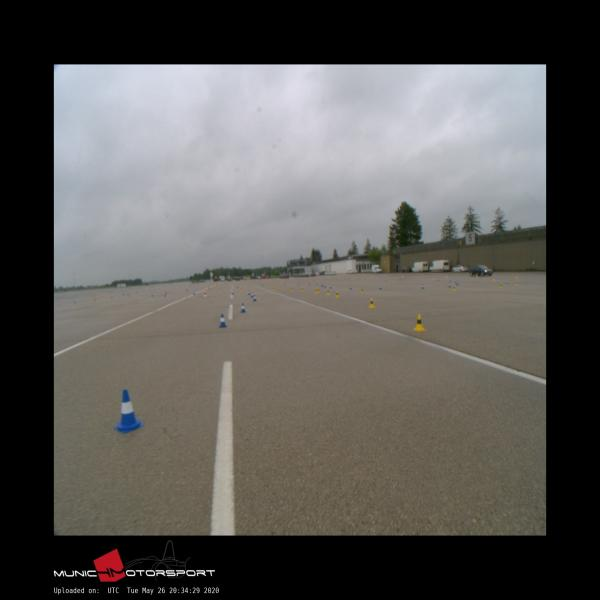blue_cone: (114, 390, 144, 433), (219, 314, 226, 327), (240, 303, 246, 313), (253, 294, 257, 301)
yellow_cone: (413, 314, 425, 330), (368, 298, 374, 308), (336, 290, 340, 298)
